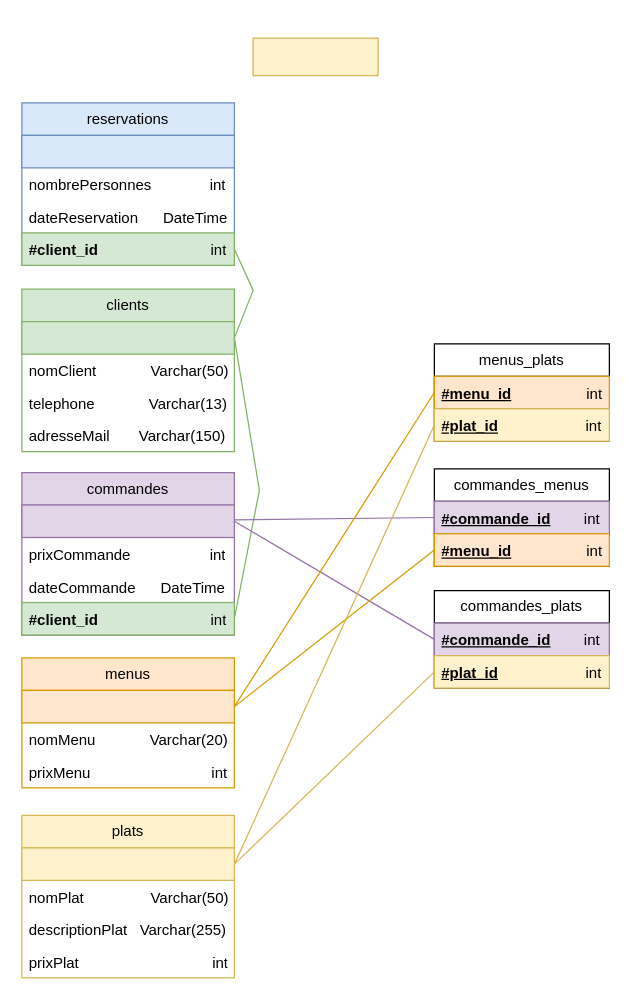
The diagram is 631 pixels wide and 1004 high, and some of its shapes have lost their labels. Each missing label, with the centre of its shape:
idClient int: the point at 127,337
idCommande int: the point at 127,521
idMenu int: the point at 127,706
idPlat int: the point at 127,863
idReservation int: the point at 127,151
MPD: the point at 315,56
